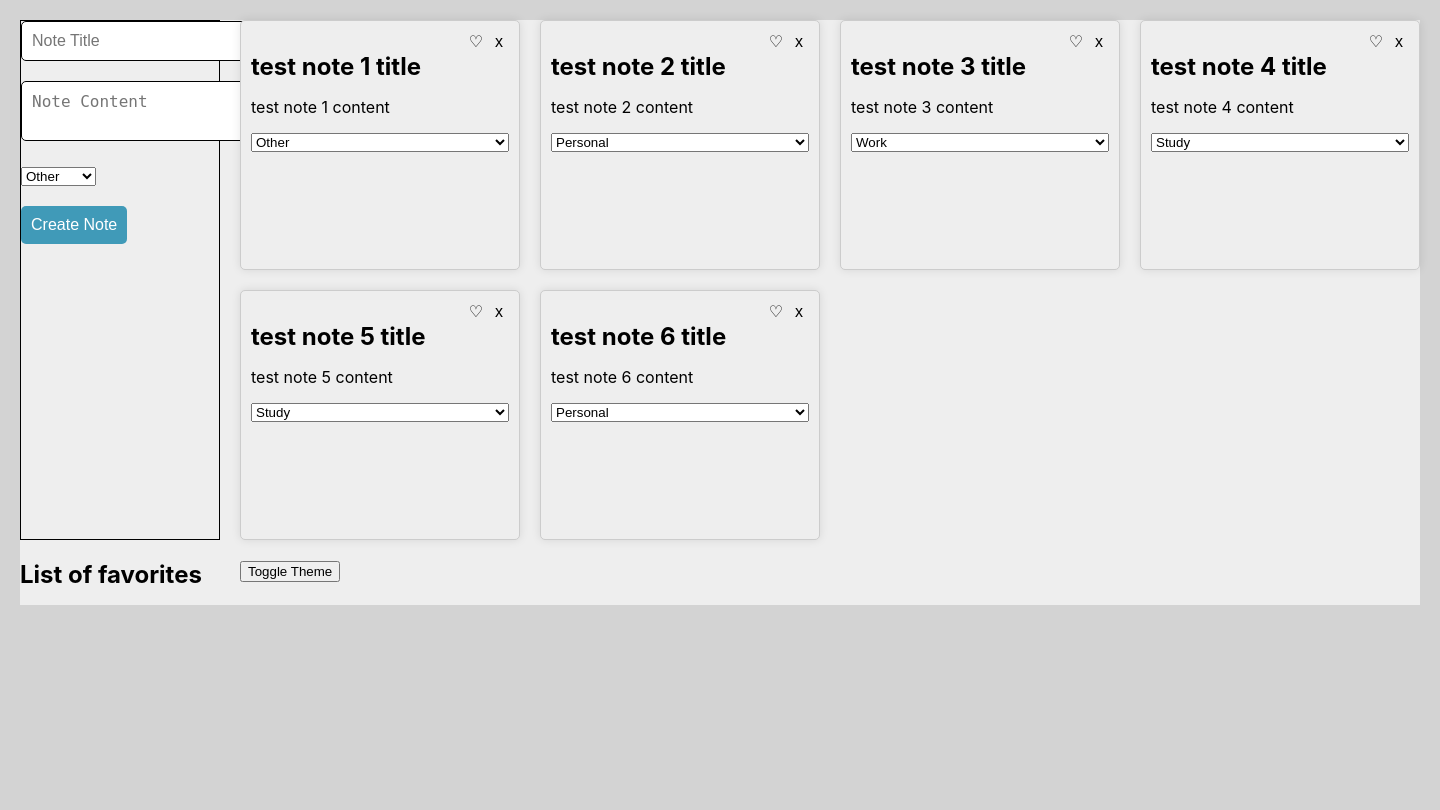
Delete StickyNote › deleting a note test
This screenshot has width=1440, height=810.
Step 1. Type "test title 1" into the field with placeholder "Note Title" → (136, 41), box [21,21,250,61]
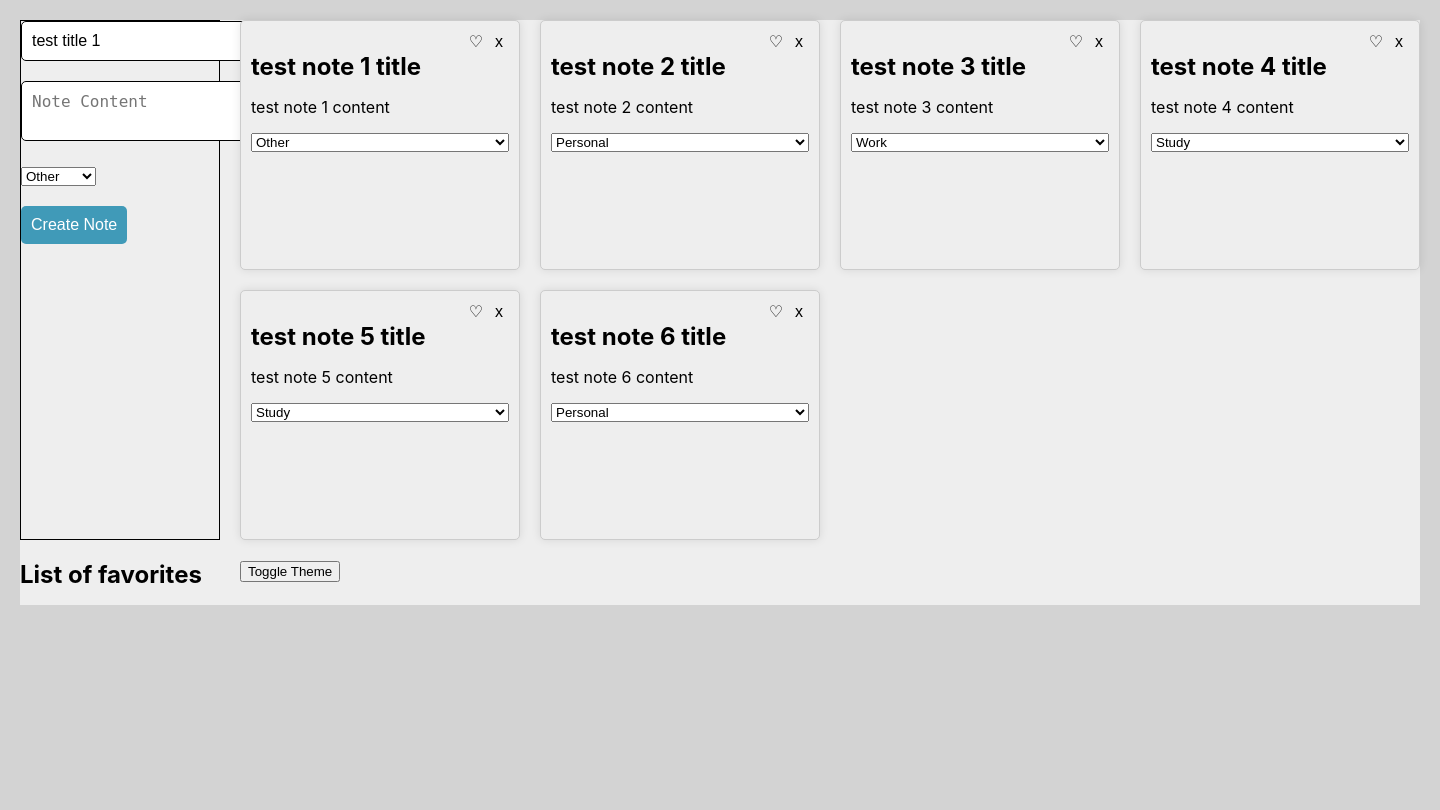
Step 2. Type "content test 1" into the text box with placeholder "Note Content" → (140, 111), box [21,81,258,141]
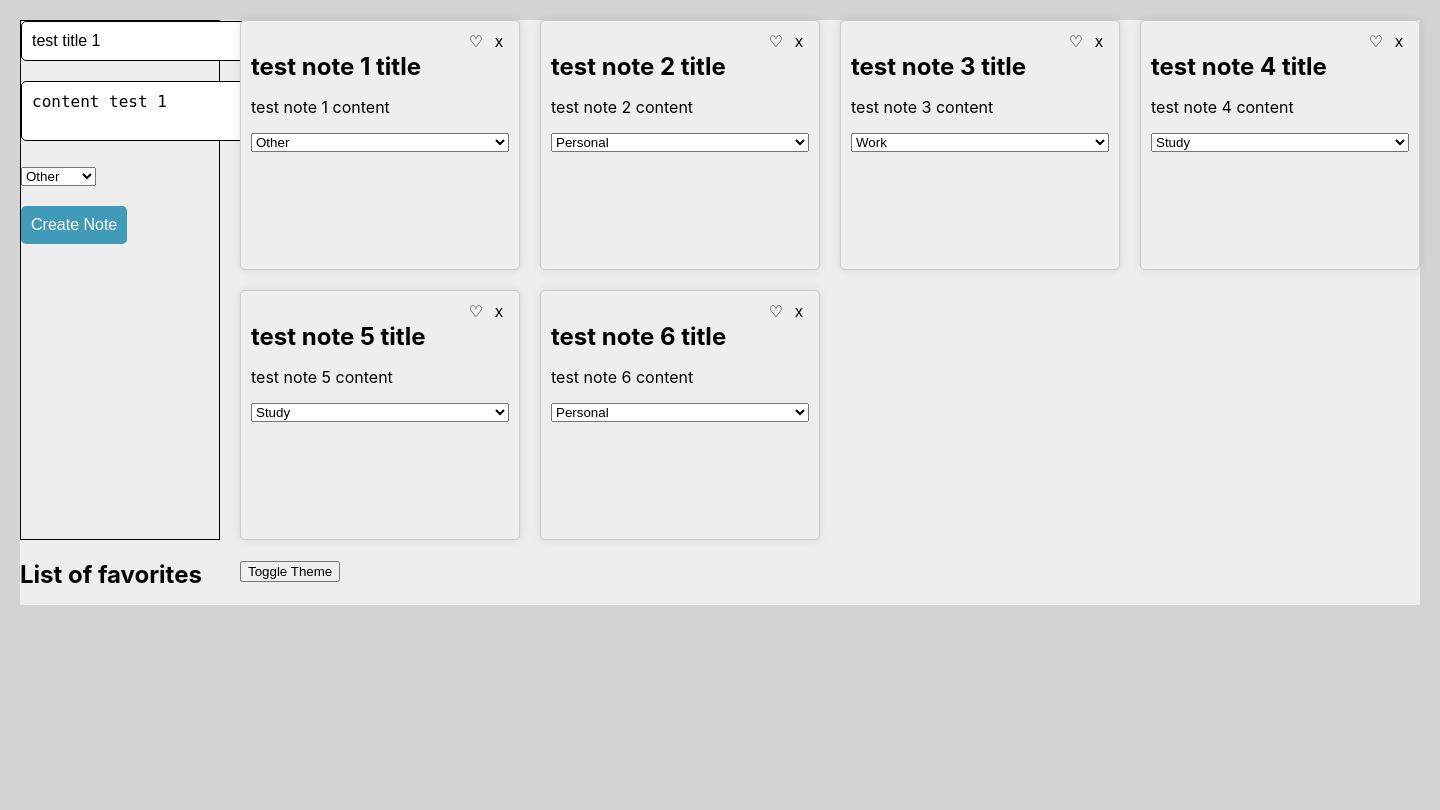
Step 3. Click the button "Create Note" → (74, 225), box [21,206,127,244]
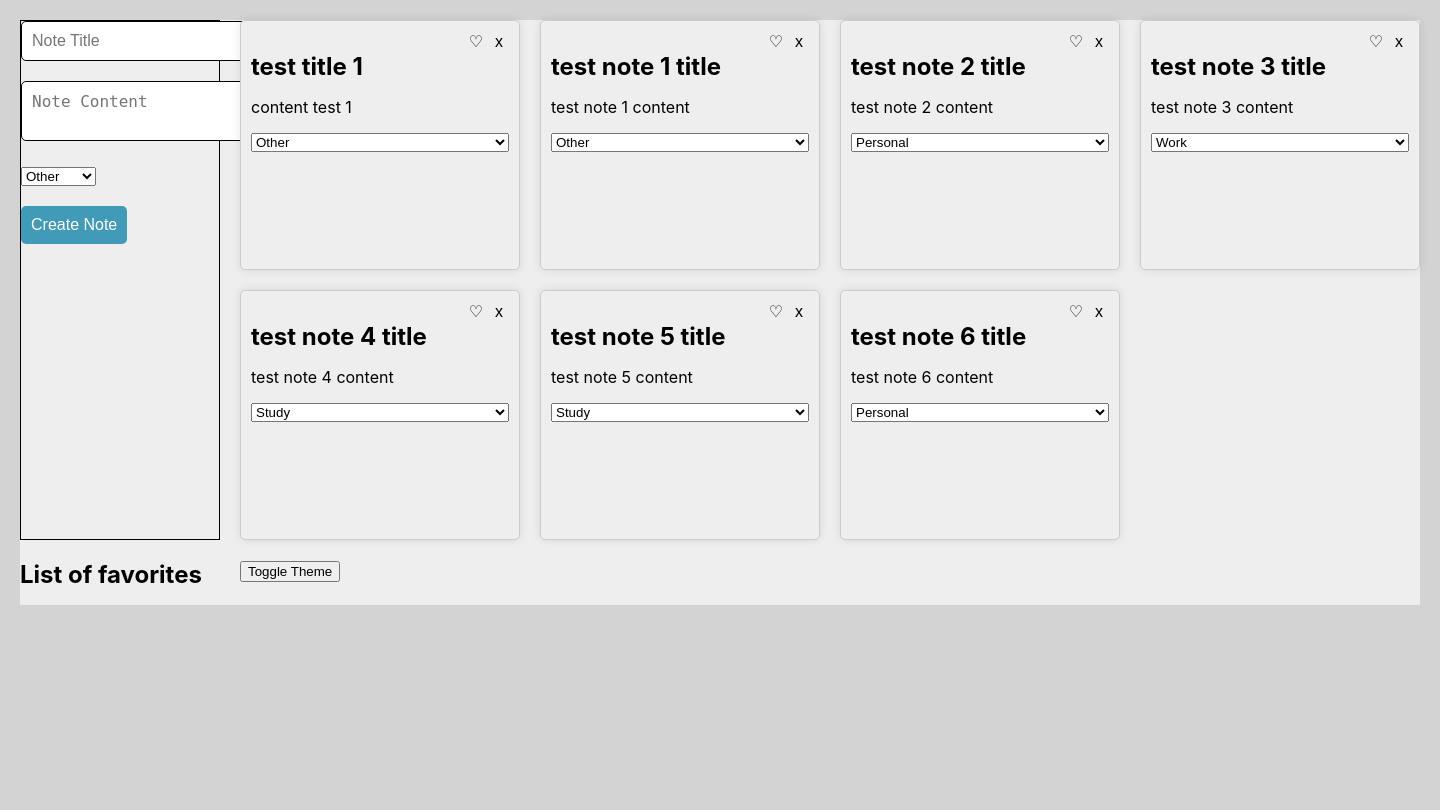
Check: the heading "test title 1" is shown, box [251,52,363,81]
Note: six dummy notes were created, so delete the seventh
Step 4. Click the button with test id "delete-note-7" → (499, 42), box [489,31,509,52]
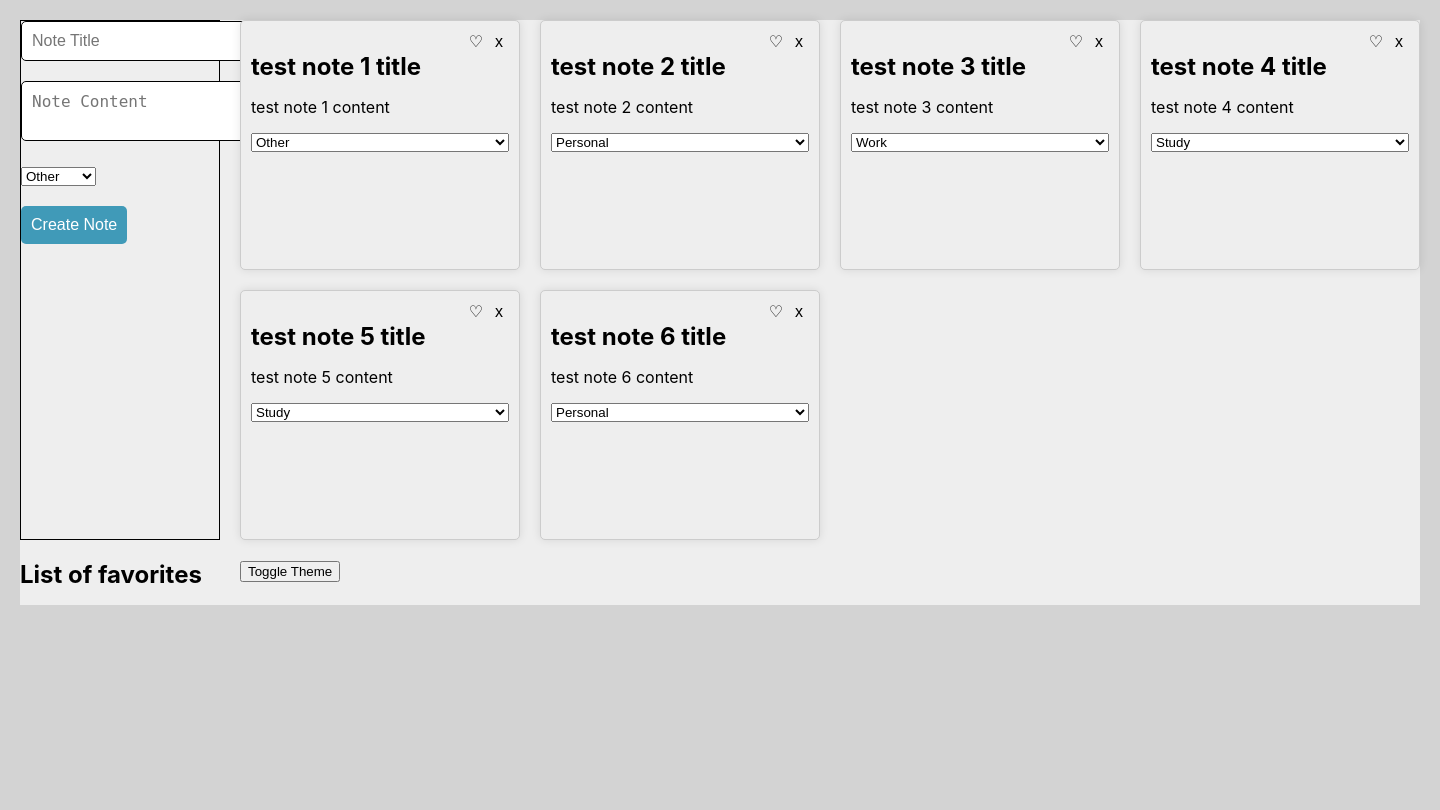
Check: the heading "test title 1" is gone
